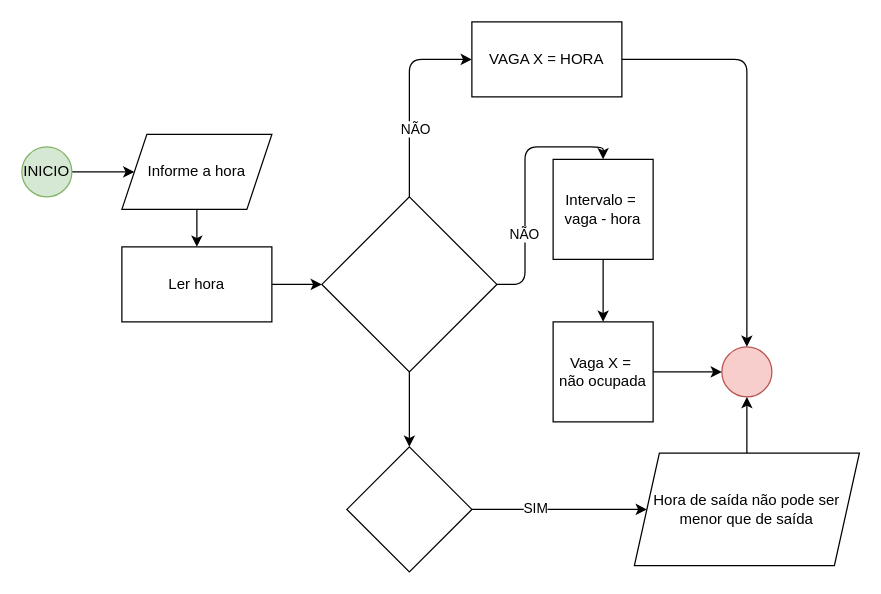
This 881x594 diagram has some shape labels left out. The shapes that lost their labels are listed below. From the top down, each one's centre as x and y in pixels, then its label:
At [409,284]: "É UMA VAGA OCUPADA?".
At [746,371]: "FIM".
At [409,509]: "hora < vaga [x]".
